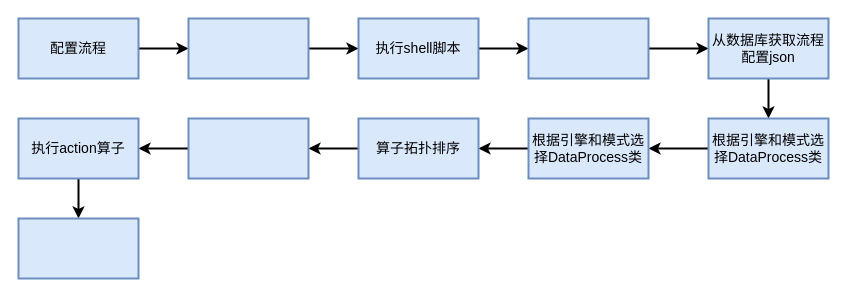
The diagram is 846 pixels wide and 296 high, and some of its shapes have lost their labels. Each missing label, with the centre of its shape:
"执行sink算子" belongs at [78,248].
"执行source算子" belongs at [248,148].
"执行TaskMain#main" belongs at [588,48].
"提交流程" belongs at [248,48].
